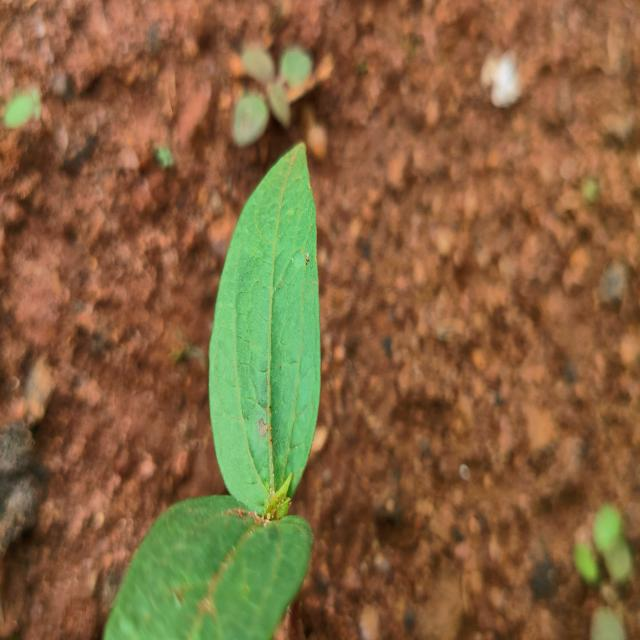Black gram_healthy: (208, 136, 322, 505), (105, 493, 314, 640)
